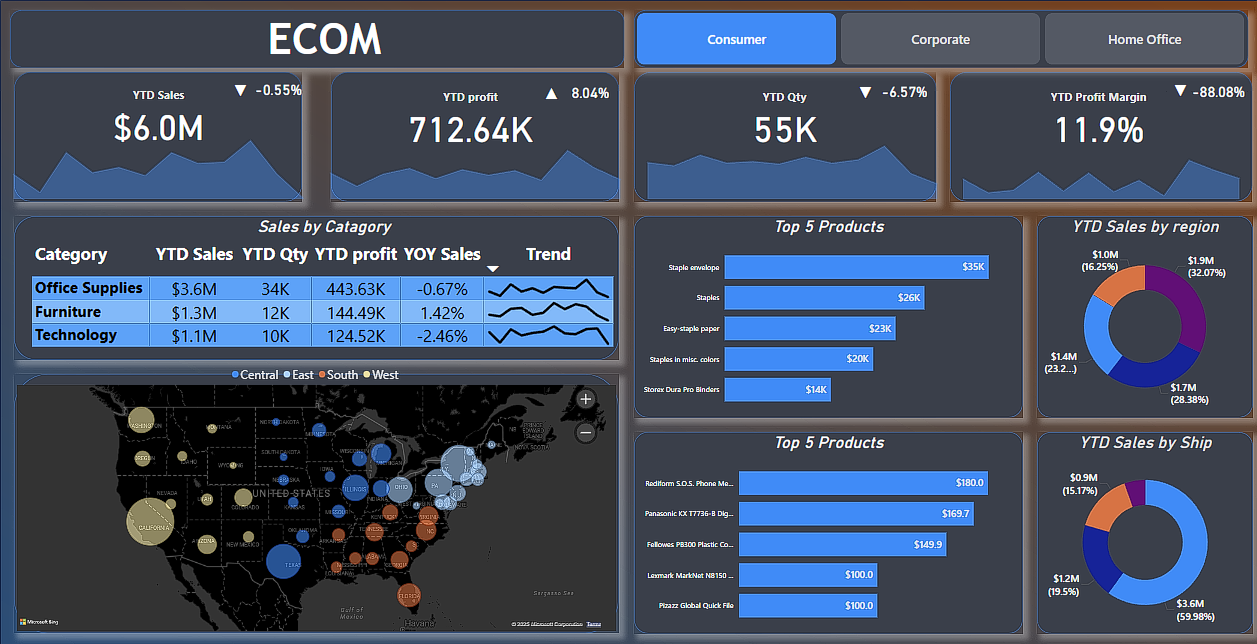

This screenshot's page, from the dashboard's own definition file:
{"tool":"powerbi","page":{"name":"Page 1","canvas":[2100,1080],"ordinal":0},"visuals":[{"type":"shape","box":[16,16,1024,96],"z":0},{"type":"textbox","box":[384,16,336,112],"z":1000},{"type":"shape","box":[24,120,480,216],"z":2000},{"type":"cardVisual","fields":{"Data":["_Measures.YTD Sales"]},"box":[128,128,272,128],"z":3000},{"type":"areaChart","fields":{"Category":["Calendar.Month"],"Y":["Sum(ecommerce_data.sales_per_order)"]},"box":[0,216,528,120],"z":4000},{"type":"cardVisual","fields":{"Data":["_Measures.YOY Sales"]},"box":[400,112,128,64],"z":5000},{"type":"cardVisual","fields":{"Data":["_Measures.Sales Icon"]},"box":[336,112,128,64],"z":6000},{"type":"shape","box":[552,120,480,216],"z":7000},{"type":"cardVisual","fields":{"Data":["_Measures.YTD profit"]},"box":[647.7,132.3,272,128],"z":8000},{"type":"areaChart","fields":{"Category":["Calendar.Month"],"Y":["Sum(ecommerce_data.profit_per_order)"]},"box":[528,216,528,120],"z":9000},{"type":"cardVisual","fields":{"Data":["_Measures.YOY Profit"]},"box":[919.7,116.3,128,64],"z":10000},{"type":"cardVisual","fields":{"Data":["_Measures.Profit Icon"]},"box":[855.7,116.3,128,64],"z":11000},{"type":"shape","box":[1056,120,504,216],"z":12000},{"type":"cardVisual","fields":{"Data":["_Measures.YTD Qty"]},"box":[1171,131.7,272,128],"z":13000},{"type":"areaChart","fields":{"Category":["Calendar.Month"],"Y":["Sum(ecommerce_data.order_quantity)"]},"box":[1056,216,528,120],"z":14000},{"type":"cardVisual","fields":{"Data":["_Measures.YOY Qty"]},"box":[1443,115.7,128,64],"z":15000},{"type":"cardVisual","fields":{"Data":["_Measures.Qty Icon"]},"box":[1379,115.7,128,64],"z":16000},{"type":"shape","box":[1584,120,504,216],"z":17000},{"type":"cardVisual","fields":{"Data":["_Measures.YTD Profit Margin"]},"box":[1694.3,131.7,272,128],"z":18000},{"type":"areaChart","fields":{"Category":["Calendar.Month"],"Y":["_Measures.Profit Margin"]},"box":[1584,216,504,120],"z":19000},{"type":"cardVisual","fields":{"Data":["_Measures.YoY Profit Margin"]},"box":[1966.3,115.7,128,64],"z":20000},{"type":"cardVisual","fields":{"Data":["_Measures.Profit Margin Icon"]},"box":[1904,112,128,64],"z":21000},{"type":"shape","box":[24,360,1008,240],"z":22000},{"type":"pivotTable","title":"Sales by Catagory","fields":{"Rows":["ecommerce_data.category_name"],"Values":["_Measures.YTD Sales","_Measures.YTD Qty","_Measures.YTD profit","_Measures.YOY Sales","SparklineData(Sum(ecommerce_data.sales_per_order)_[Calendar.Month])"]},"box":[48,360,984,240],"z":23000},{"type":"shape","box":[24,624,1008,432],"z":24000},{"type":"map","fields":{"X":["us_state_long_lat_codes.longitude"],"Y":["us_state_long_lat_codes.latitude"],"Series":["ecommerce_data.customer_region"],"Size":["_Measures.YTD Sales"]},"box":[24,600,1008,456],"z":25000},{"type":"shape","box":[1056,360,648,336],"z":25001},{"type":"shape","box":[1056,720,648,336],"z":25002},{"type":"barChart","title":"Top 5 Products","fields":{"Y":["_Measures.YTD Sales"],"Category":["ecommerce_data.product_name"]},"box":[1056,360,648,336],"z":25003},{"type":"barChart","title":"Top 5 Products","fields":{"Y":["_Measures.YTD Sales"],"Category":["ecommerce_data.product_name"]},"box":[1056,720,648,336],"z":25004},{"type":"shape","box":[1728,360,360,336],"z":25006},{"type":"shape","box":[1728,720,360,336],"z":25007},{"type":"donutChart","title":"YTD Sales by region","fields":{"Category":["ecommerce_data.customer_region"],"Y":["_Measures.YTD Sales"]},"box":[1728,360,360,336],"z":25008},{"type":"donutChart","title":"YTD Sales by Ship","fields":{"Y":["_Measures.YTD Sales"],"Category":["ecommerce_data.shipping_type"]},"box":[1716,720,384,336],"z":25009},{"type":"shape","box":[1056,16,1024,96],"z":25010},{"type":"advancedSlicerVisual","fields":{"Values":["ecommerce_data.customer_segment"]},"box":[1056,16,1024,96],"z":25011}]}

Visuals, with their boxes in screenshot pixels (x1, y1, x2, y2), scaled from the page's 2100x1080 canvas onto the 1257x644 screenshot:
shape: x1=10, y1=10, x2=623, y2=67
textbox: x1=230, y1=10, x2=431, y2=76
shape: x1=14, y1=72, x2=302, y2=200
cardVisual - _Measures.YTD Sales: x1=77, y1=76, x2=239, y2=153
areaChart - Calendar.Month x Sum(ecommerce_data.sales_per_order): x1=0, y1=129, x2=316, y2=200
cardVisual - _Measures.YOY Sales: x1=239, y1=67, x2=316, y2=105
cardVisual - _Measures.Sales Icon: x1=201, y1=67, x2=278, y2=105
shape: x1=330, y1=72, x2=618, y2=200
cardVisual - _Measures.YTD profit: x1=388, y1=79, x2=551, y2=155
areaChart - Calendar.Month x Sum(ecommerce_data.profit_per_order): x1=316, y1=129, x2=632, y2=200
cardVisual - _Measures.YOY Profit: x1=551, y1=69, x2=627, y2=108
cardVisual - _Measures.Profit Icon: x1=512, y1=69, x2=589, y2=108
shape: x1=632, y1=72, x2=934, y2=200
cardVisual - _Measures.YTD Qty: x1=701, y1=79, x2=864, y2=155
areaChart - Calendar.Month x Sum(ecommerce_data.order_quantity): x1=632, y1=129, x2=948, y2=200
cardVisual - _Measures.YOY Qty: x1=864, y1=69, x2=940, y2=107
cardVisual - _Measures.Qty Icon: x1=825, y1=69, x2=902, y2=107
shape: x1=948, y1=72, x2=1250, y2=200
cardVisual - _Measures.YTD Profit Margin: x1=1014, y1=79, x2=1177, y2=155
areaChart - Calendar.Month x _Measures.Profit Margin: x1=948, y1=129, x2=1250, y2=200
cardVisual - _Measures.YoY Profit Margin: x1=1177, y1=69, x2=1254, y2=107
cardVisual - _Measures.Profit Margin Icon: x1=1140, y1=67, x2=1216, y2=105
shape: x1=14, y1=215, x2=618, y2=358
"Sales by Catagory" pivotTable: x1=29, y1=215, x2=618, y2=358
shape: x1=14, y1=372, x2=618, y2=630
map - us_state_long_lat_codes.longitude x us_state_long_lat_codes.latitude: x1=14, y1=358, x2=618, y2=630
shape: x1=632, y1=215, x2=1020, y2=415
shape: x1=632, y1=429, x2=1020, y2=630
"Top 5 Products" barChart: x1=632, y1=215, x2=1020, y2=415
"Top 5 Products" barChart: x1=632, y1=429, x2=1020, y2=630
shape: x1=1034, y1=215, x2=1250, y2=415
shape: x1=1034, y1=429, x2=1250, y2=630
"YTD Sales by region" donutChart: x1=1034, y1=215, x2=1250, y2=415
"YTD Sales by Ship" donutChart: x1=1027, y1=429, x2=1256, y2=630
shape: x1=632, y1=10, x2=1245, y2=67
advancedSlicerVisual - ecommerce_data.customer_segment: x1=632, y1=10, x2=1245, y2=67
